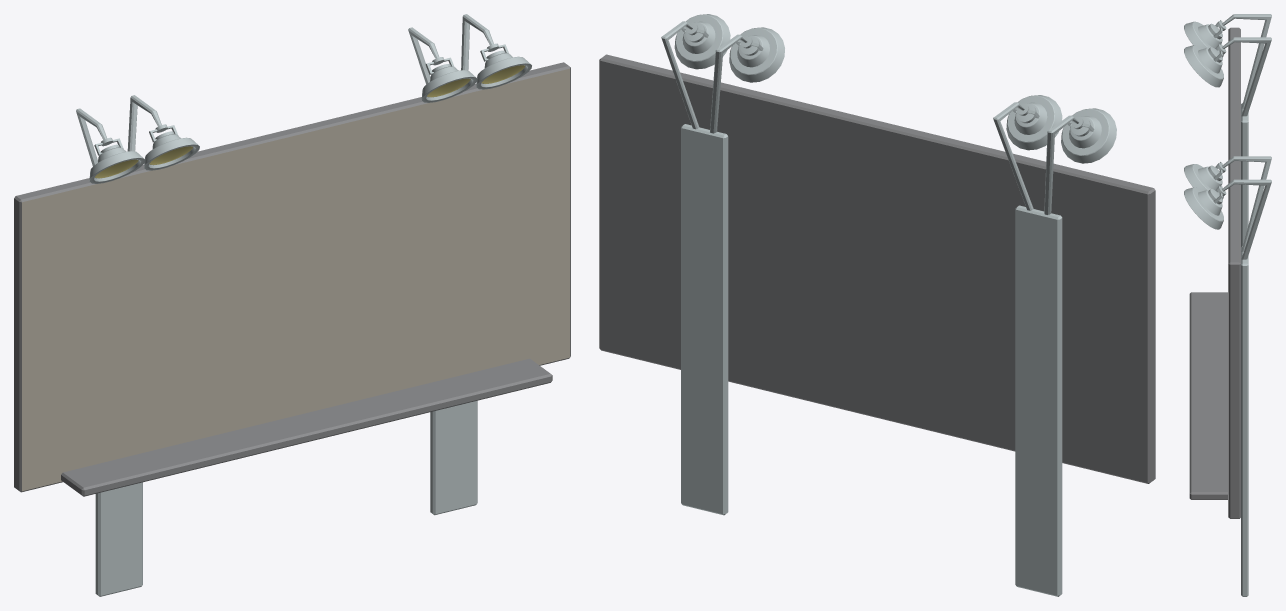
The model's file is billboard.fbx.
3 views of the same model, side by side, from view 1: azimuth 30°, elevation 25°; view 2: azimuth 150°, elevation 25°; view 3: azimuth 270°, elevation 25° (orthographic). The views are drawn at different scales.
Visible parts, largest first — view 1: billboard; view 2: billboard; view 3: billboard.
Part boxes in pixels (x1,y1,x2,y2): billboard: (14, 14, 570, 596); billboard: (599, 14, 1155, 596); billboard: (1184, 14, 1271, 596).
Bounding box in the file's own units: 931 × 771 × 146.
